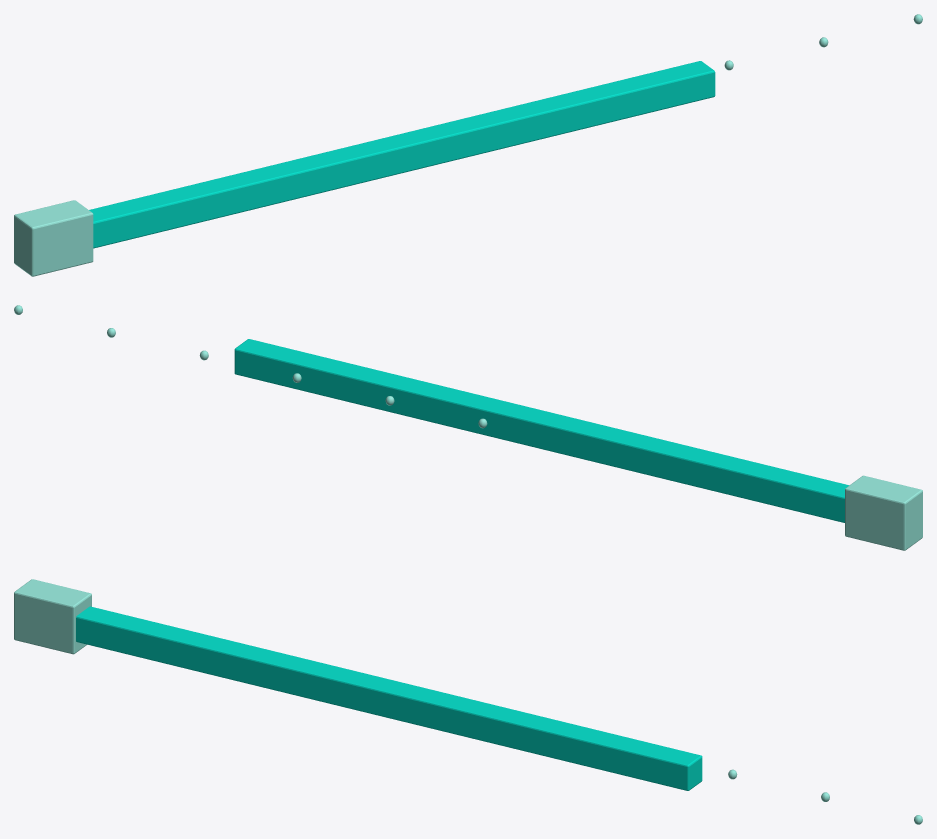
File: VM-CAB-SH41080113.glb
The picture shows the model from 3 angles, top to bottom: view 1: azimuth 30°, elevation 25°; view 2: azimuth 150°, elevation 25°; view 3: azimuth 330°, elevation 25°; orthographic projection.
Visible parts, largest first — view 1: Cinturón De Cuero Unisex; view 2: Cinturón De Cuero Unisex; view 3: Cinturón De Cuero Unisex.
Part boxes in pixels (<box>): Cinturón De Cuero Unisex: <box>14,14,922,276</box>; Cinturón De Cuero Unisex: <box>14,305,922,550</box>; Cinturón De Cuero Unisex: <box>14,579,922,824</box>.
Bounding box in the file's own units: 1.26 × 0.0654 × 0.0483.
